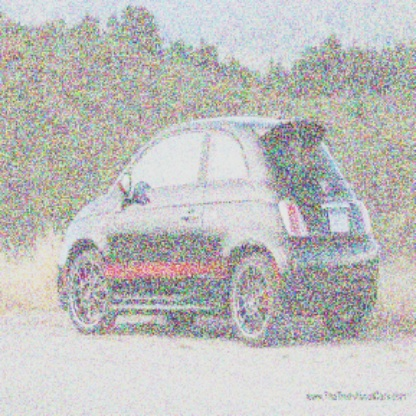Vehicle: (55, 114, 382, 346)
